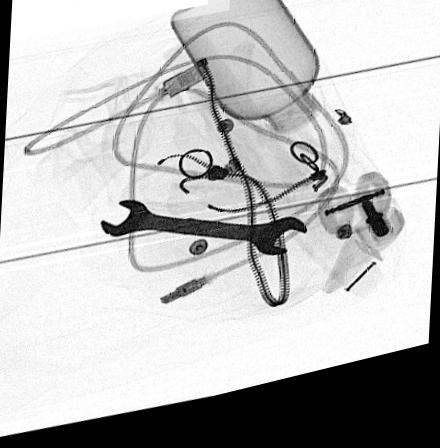Wrench: (100, 204, 308, 267)
